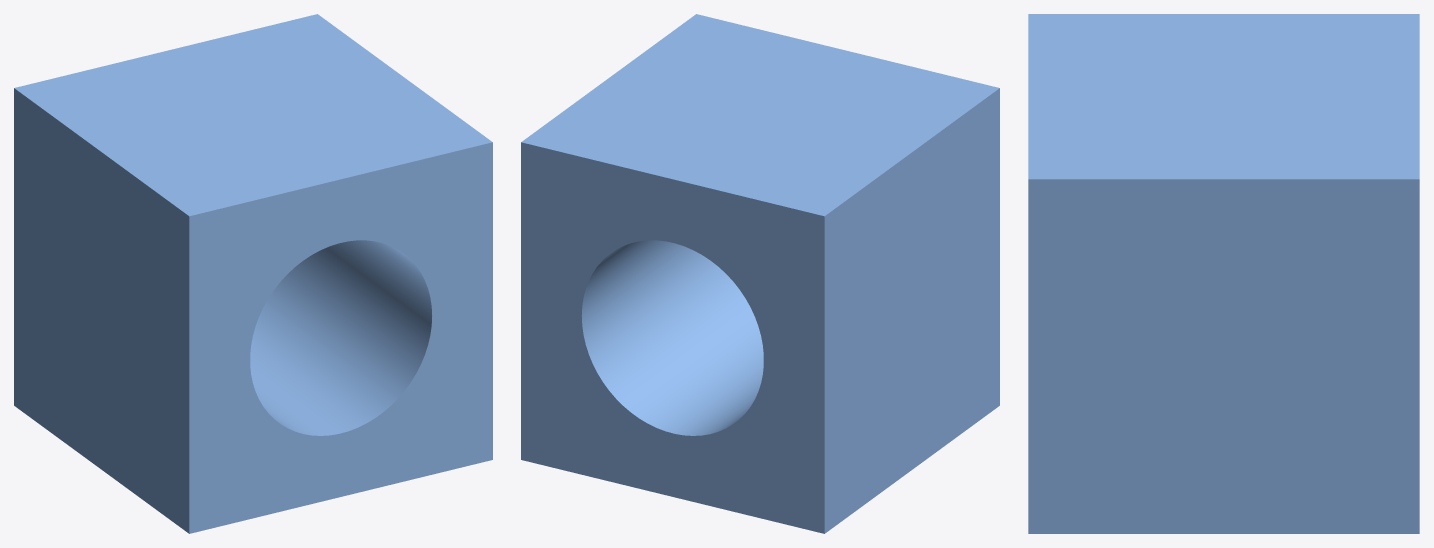
Rendered from booleans-cut.glb.
3 views of the same model, side by side, from view 1: azimuth 30°, elevation 25°; view 2: azimuth 150°, elevation 25°; view 3: azimuth 270°, elevation 25° (orthographic). The views are drawn at different scales.
Parts seen in each view (by area): view 1: COMPOUND; view 2: COMPOUND; view 3: COMPOUND.
Boxes of the visible parts, left/top/right/bottom form: COMPOUND: left=14, top=14, right=492, bottom=533; COMPOUND: left=521, top=14, right=999, bottom=533; COMPOUND: left=1028, top=14, right=1419, bottom=533.
Size of the model in its own units: 10 by 10 by 10.
